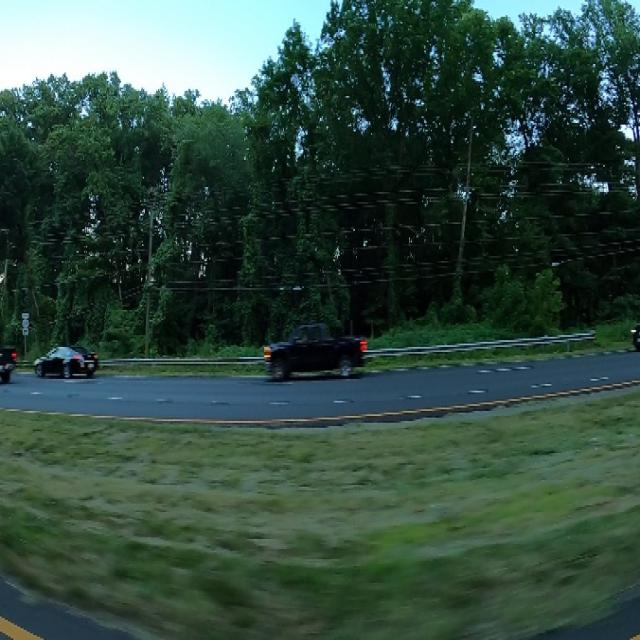car: (257, 308, 365, 384), (31, 335, 100, 384)
